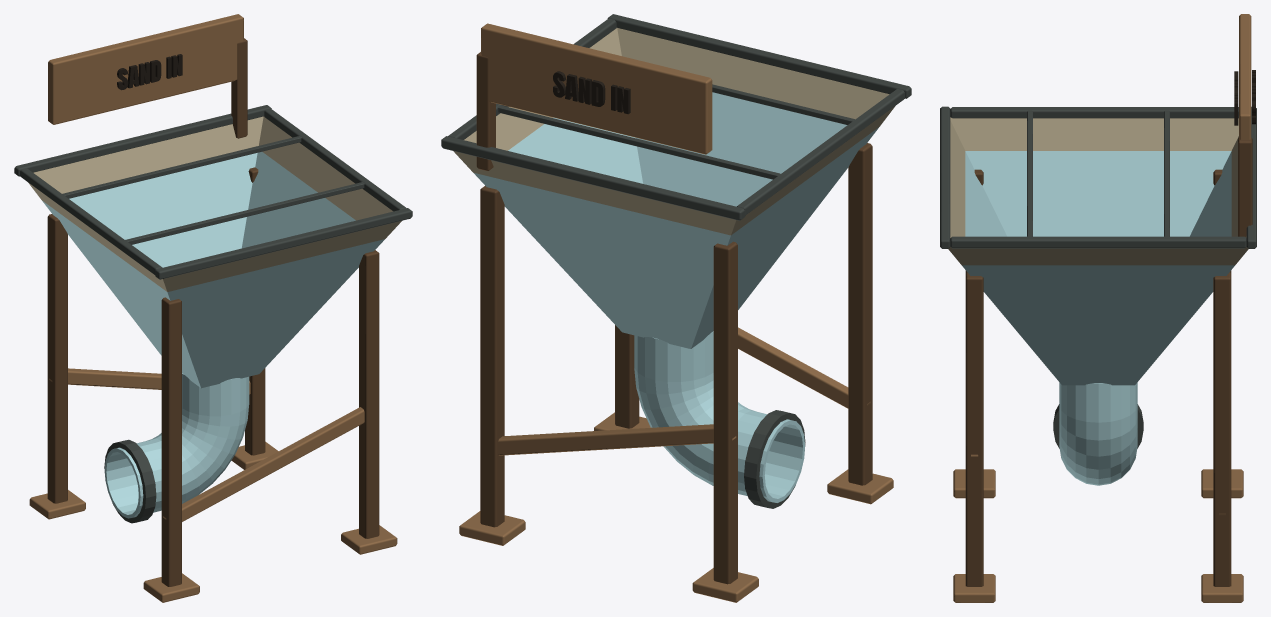
File: PipeIntake.glb
3 views of the same model, side by side, from view 1: azimuth 30°, elevation 25°; view 2: azimuth 150°, elevation 25°; view 3: azimuth 270°, elevation 25° (orthographic). The views are drawn at different scales.
Parts seen in each view (by area): view 1: PipeIntake; view 2: PipeIntake; view 3: PipeIntake.
Boxes of the visible parts, <box> form: PipeIntake: <box>14,14,412,602</box>; PipeIntake: <box>441,14,911,602</box>; PipeIntake: <box>940,14,1256,602</box>.
Size of the model in its own units: 0.98 by 1.62 by 0.972.
